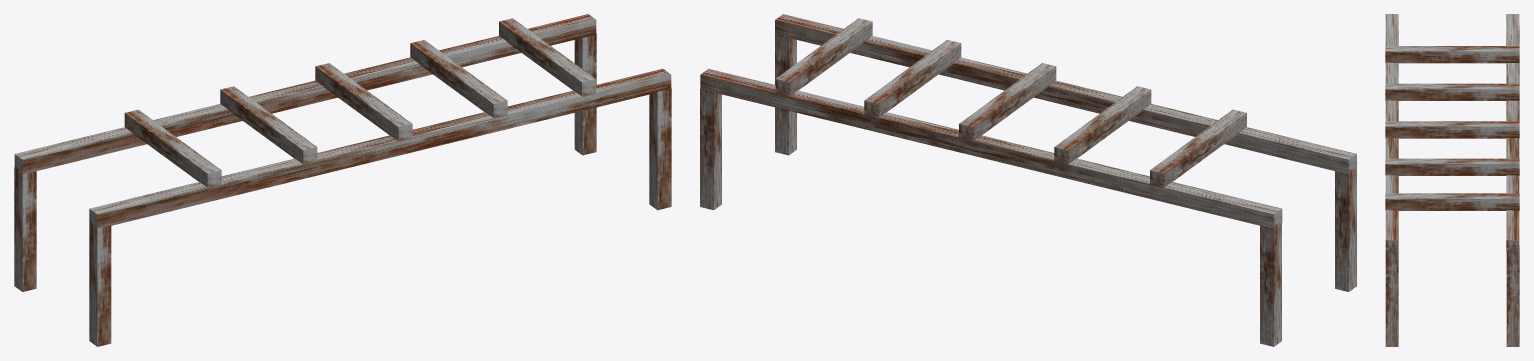
File: huriko_dodai_sabi.fbx
3 views of the same model, side by side, from view 1: azimuth 30°, elevation 25°; view 2: azimuth 150°, elevation 25°; view 3: azimuth 270°, elevation 25° (orthographic). The views are drawn at different scales.
Parts seen in each view (by area): view 1: Cube.001; view 2: Cube.001; view 3: Cube.001.
Part boxes in pixels (x1,y1,x2,y2): Cube.001: [14, 14, 671, 346]; Cube.001: [700, 14, 1356, 346]; Cube.001: [1385, 14, 1519, 346].
Size of the model in its own units: 3014 by 735 by 756.
1 material, 1 textured.
